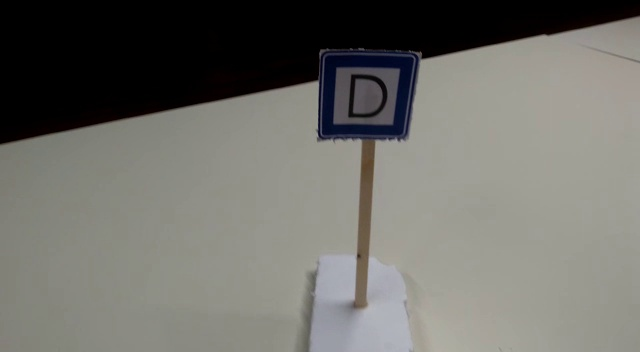durak: (318, 54, 416, 140)
